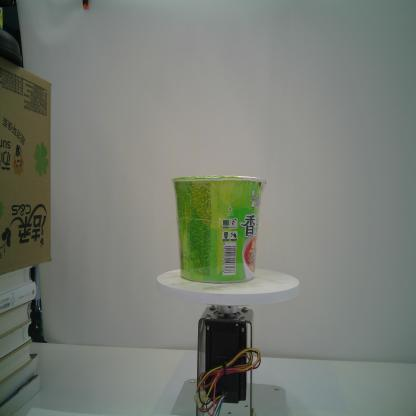Instant Noodles: (171, 176, 267, 284)
